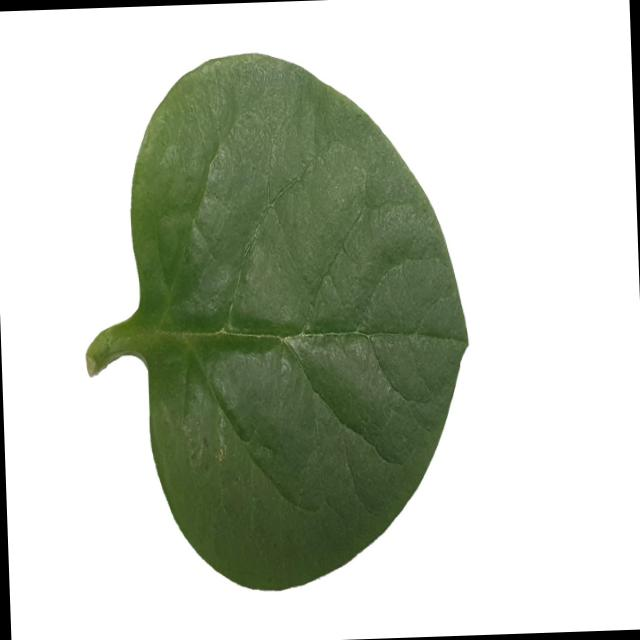Medicinal-Basale: (77, 48, 476, 597)
